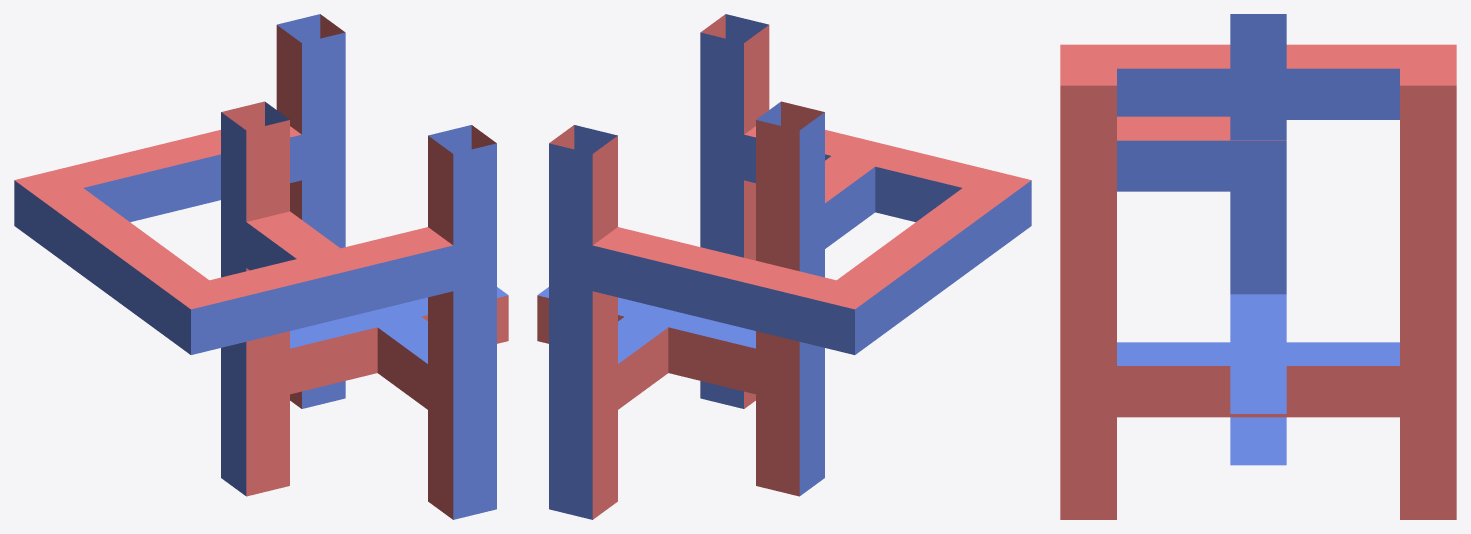
Rendered from steane_encoding.dae.
3 views of the same model, side by side, from view 1: azimuth 30°, elevation 25°; view 2: azimuth 150°, elevation 25°; view 3: azimuth 270°, elevation 25° (orthographic). The views are drawn at different scales.
Parts seen in each view (by area): view 1: xzo (×12), ozx (×8), zxo (×7), zox (×6), zzx (×6), xzx (×4), oxz (×3), xoz (×2), zxx (×3), xzz (×2), zxz (×2), xxz; view 2: xzo (×13), ozx (×8), zxo (×7), zox (×6), zzx (×5), xzx (×4), oxz (×3), zxx (×4), xoz (×2), xzz (×2), zxz (×2), xxz; view 3: xzo (×8), zox (×6), xoz (×4), zxo (×3), oxz (×3), xzz (×2), xzx (×2), zxx, zzx (×2), ozx (×2), xxz.
Part boxes in pixels (x1,y1,x2,y2): xzo (×12): (276, 14, 496, 519); ozx (×8): (58, 126, 453, 344); zxo (×7): (221, 101, 289, 496); zox (×6): (39, 188, 339, 336); zzx (×6): (14, 169, 365, 354); xzx (×4): (145, 124, 496, 290); oxz (×3): (290, 295, 508, 394); xoz (×2): (377, 316, 427, 409); zxx (×3): (90, 204, 246, 299); xzz (×2): (428, 364, 496, 428); zxz (×2): (221, 346, 289, 404); xxz: (360, 303, 420, 327); xzo (×13): (549, 14, 769, 519); ozx (×8): (592, 126, 987, 344); zxo (×7): (756, 101, 824, 496); zox (×6): (825, 156, 1006, 336); zzx (×5): (811, 137, 1031, 354); xzx (×4): (549, 124, 748, 322); oxz (×3): (537, 295, 755, 394); zxx (×4): (756, 204, 955, 299); xoz (×2): (618, 316, 668, 409); xzz (×2): (549, 364, 617, 428); zxz (×2): (756, 346, 824, 404); xxz: (625, 303, 685, 327); xzo (×8): (1060, 85, 1456, 519); zox (×6): (1117, 44, 1399, 191); xoz (×4): (1117, 342, 1399, 417); zxo (×3): (1230, 14, 1286, 294); oxz (×3): (1230, 294, 1286, 465); xzz (×2): (1060, 366, 1456, 417); xzx (×2): (1060, 212, 1456, 263); zxx: (1230, 140, 1286, 191); zzx (×2): (1060, 44, 1456, 68); ozx (×2): (1060, 68, 1456, 85); xxz: (1230, 342, 1286, 365).
Bounding box in the file's own units: 9 × 7 × 8.
